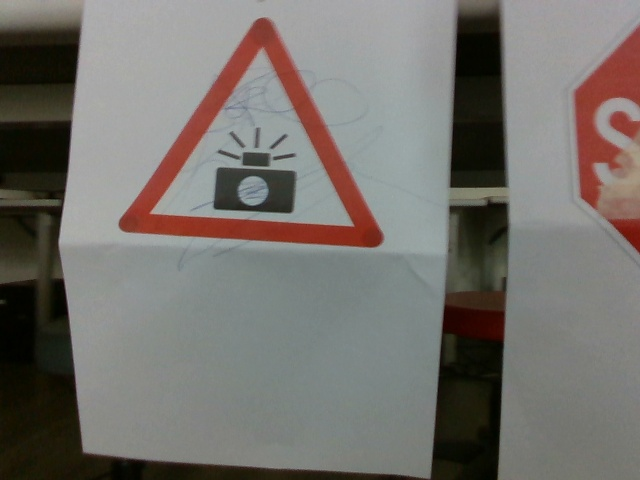camera: (118, 17, 384, 247)
